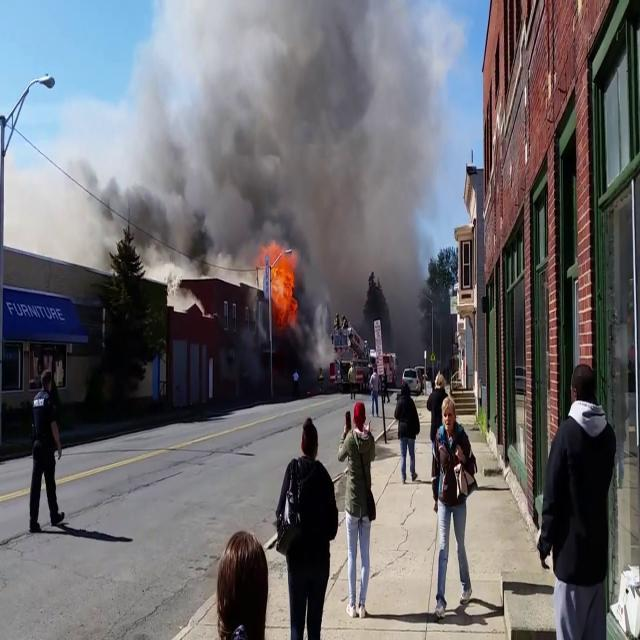Fire: (259, 236, 303, 322)
Smoke: (130, 0, 443, 293)
